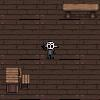Jason: (40, 40, 60, 60)
Obstacle: (4, 67, 32, 94), (61, 2, 100, 20)
